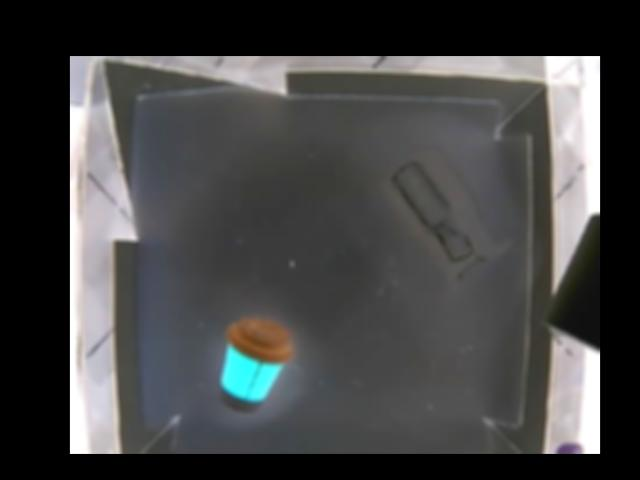Bottle: (381, 152, 508, 279)
Cup: (218, 317, 291, 411)
